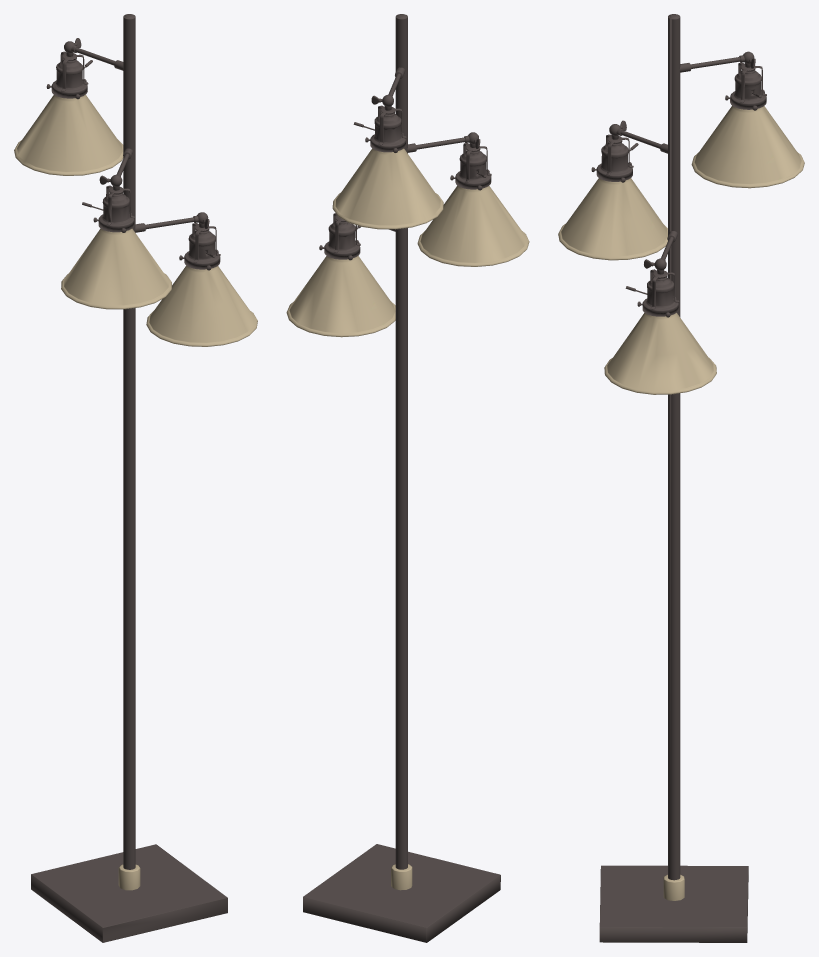
File: B073P3HHFT.glb
3 renders of one model, left to right at view 1: azimuth 30°, elevation 25°; view 2: azimuth 150°, elevation 25°; view 3: azimuth 270°, elevation 25°, orthographic.
Visible parts, largest first — view 1: RootNode; view 2: RootNode; view 3: RootNode.
Part boxes in pixels (<box>): RootNode: <box>14,14,257,942</box>; RootNode: <box>286,14,529,942</box>; RootNode: <box>558,14,804,942</box>.
Bounding box in the file's own units: 0.4153 × 1.72 × 0.4281.
1 material, 1 textured.
